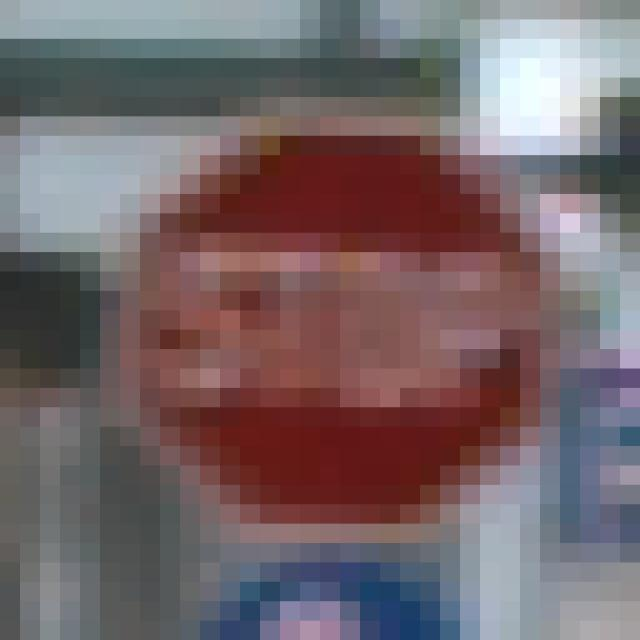STOP: (121, 98, 541, 544)
